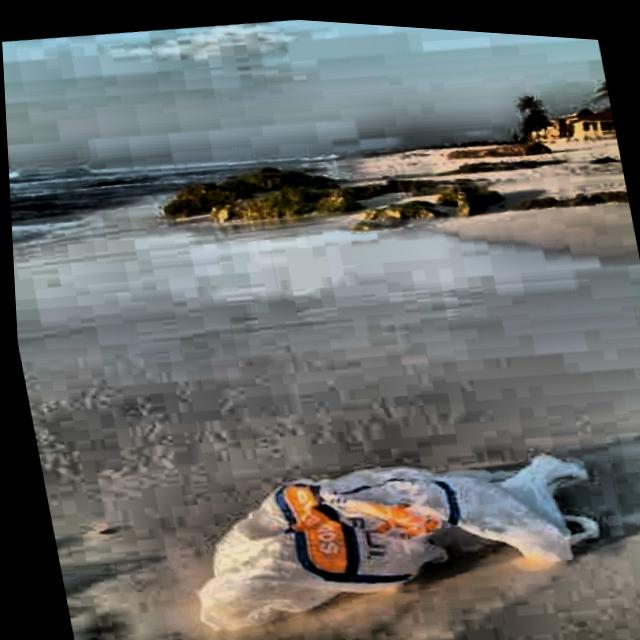Plastic: (146, 376, 635, 640)
